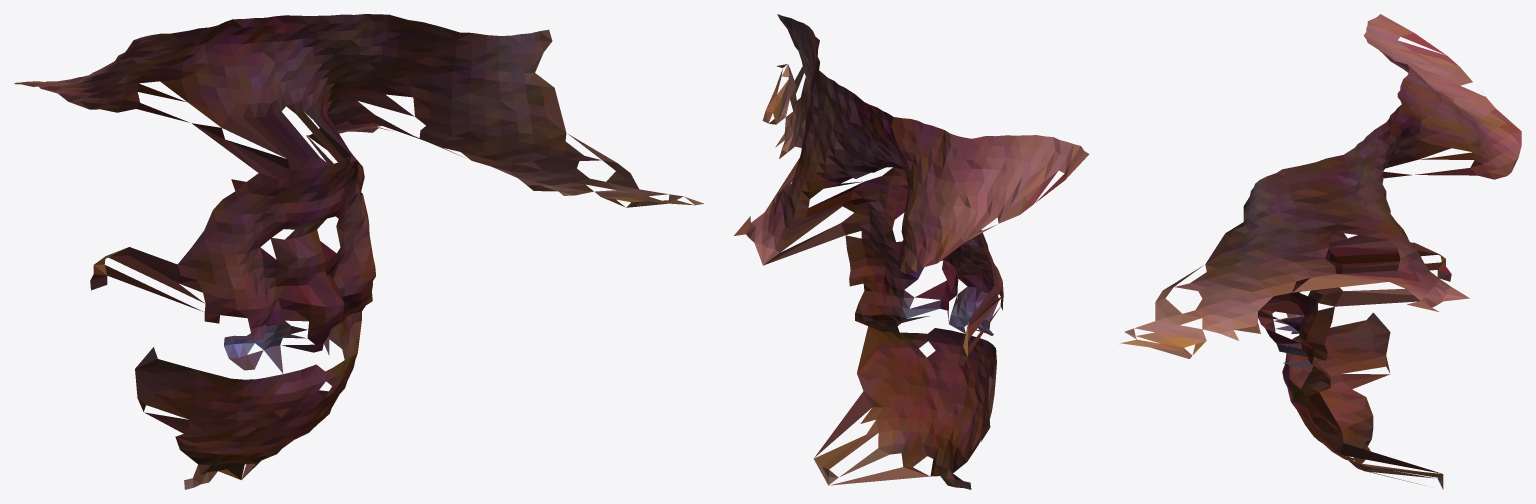
3 renders of one model, left to right at view 1: azimuth 30°, elevation 25°; view 2: azimuth 150°, elevation 25°; view 3: azimuth 270°, elevation 25°, orthographic. The views are drawn at different scales.
Parts seen in each view (by area): view 1: ofMesh; view 2: ofMesh; view 3: ofMesh.
Boxes of the visible parts, x1,y1,x2,y2 form: ofMesh: (14,14,703,489); ofMesh: (734,14,1089,489); ofMesh: (1120,14,1521,489).
Bounding box in the file's own units: 360 × 288 × 283.
Materials: 1 (1 with a texture image).
